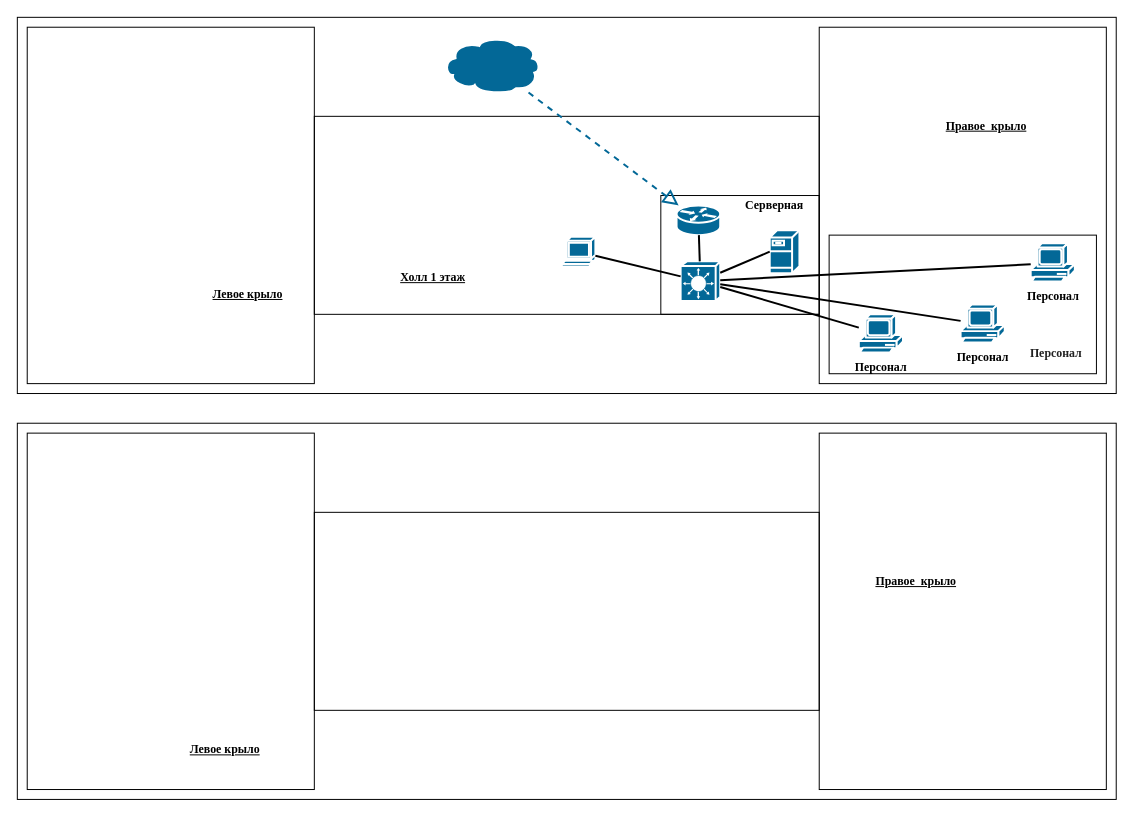
The diagram is 1134 pixels wide and 817 high, and some of its shapes have lost their labels. Each missing label, with the centre of its shape:
Компьютерный класс 10 компьютеров: point (578, 251)
Провайдер: point (491, 64)
Холл 2 этаж: point (566, 610)
